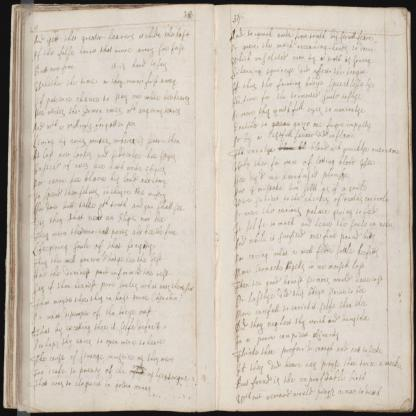book: (7, 10, 413, 402)
